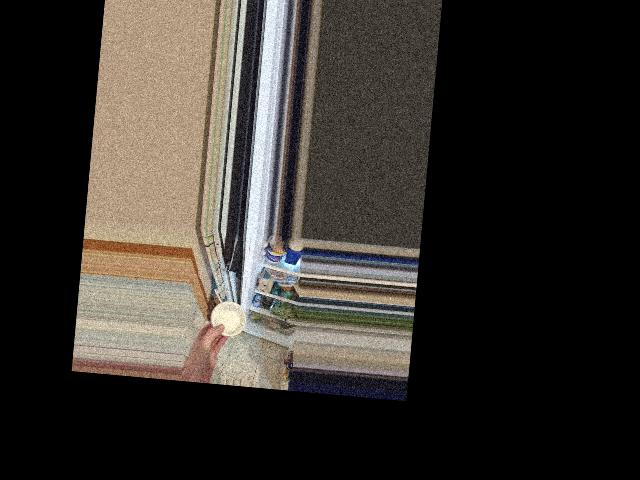cotage: (208, 297, 248, 336)
